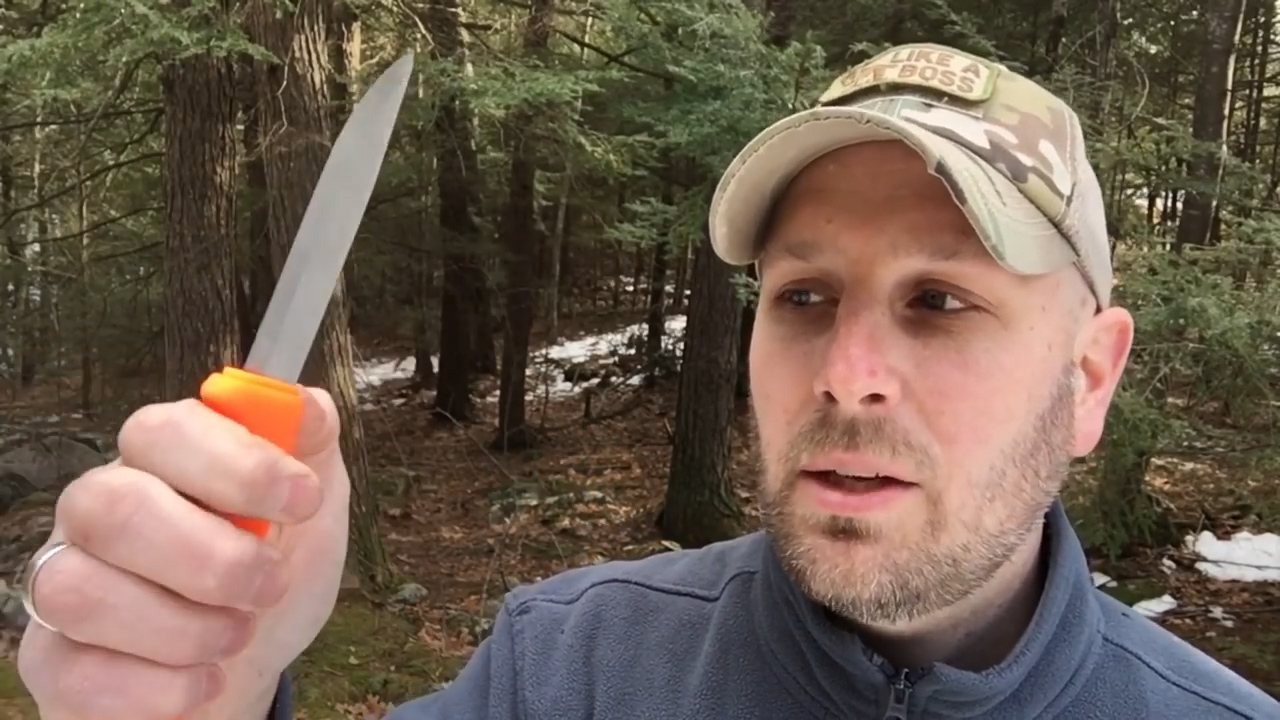knife: (93, 31, 438, 594)
